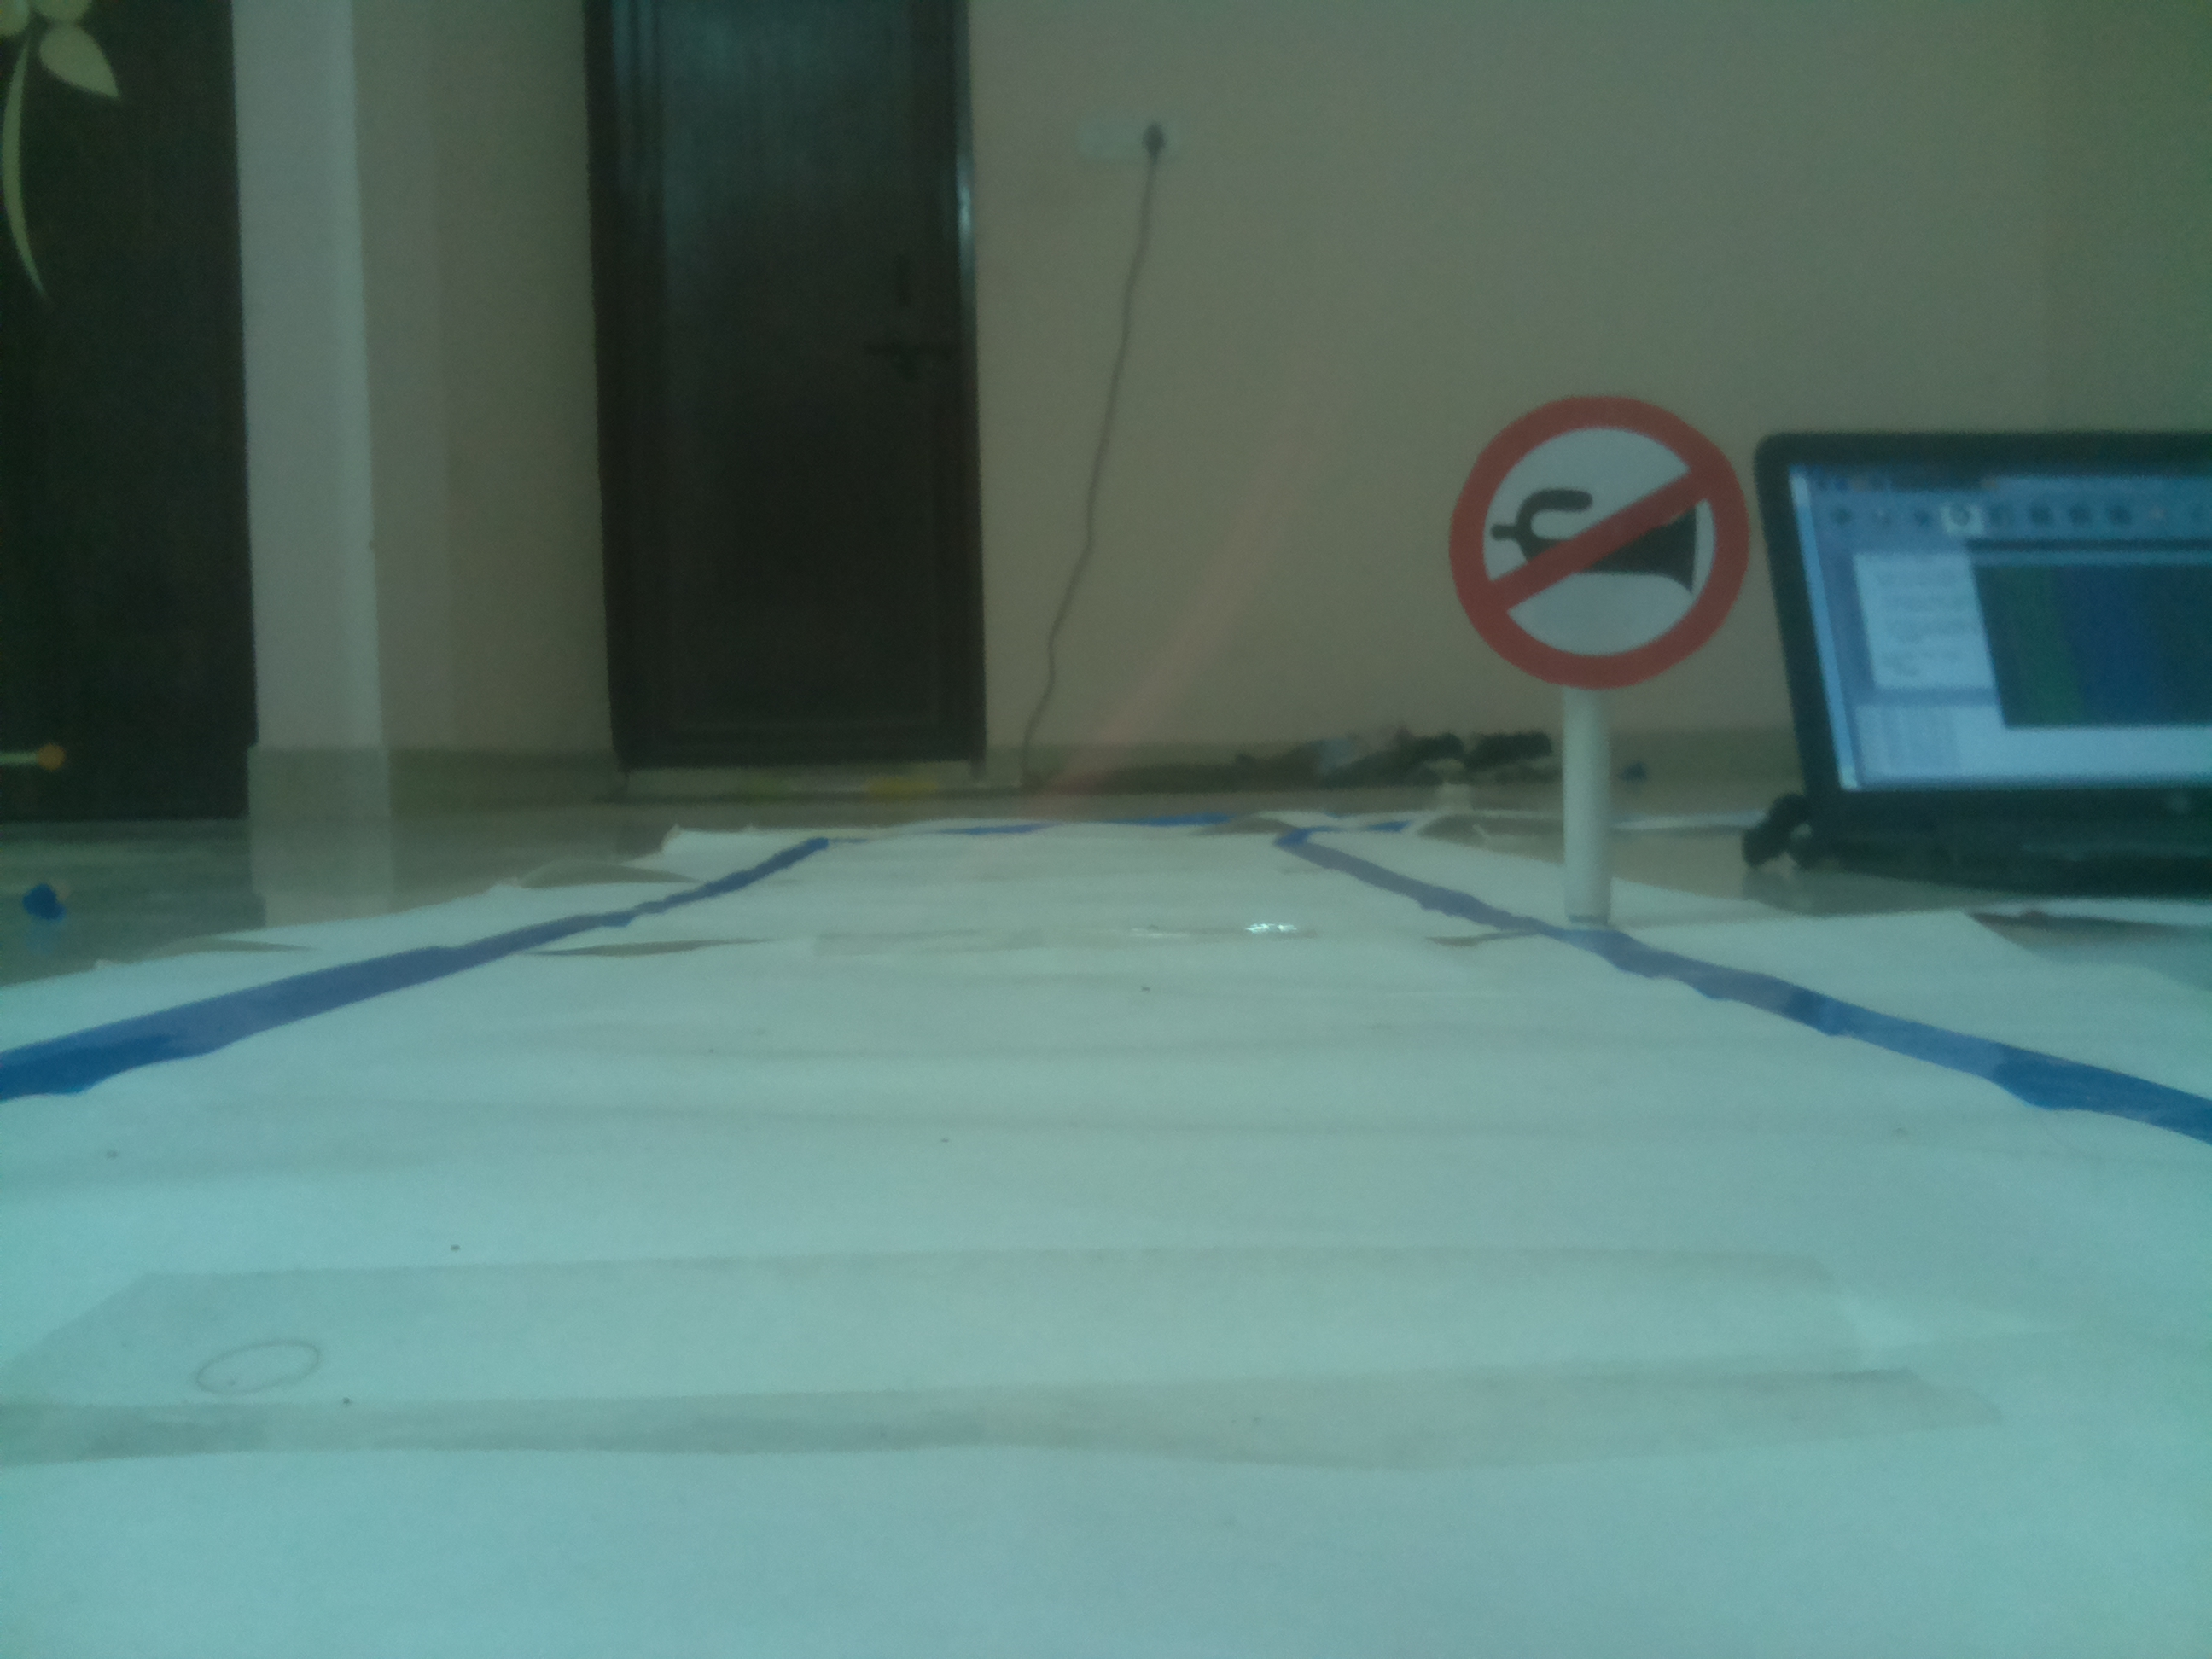no-horn: (1460, 415, 1773, 669)
